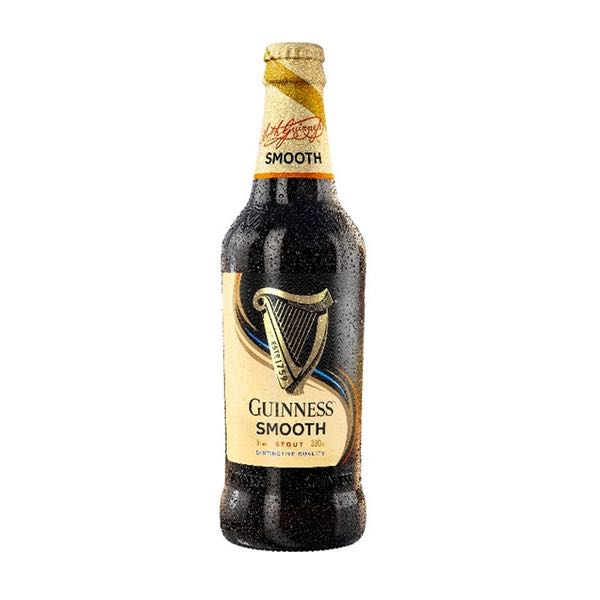glass_bottle: (212, 35, 373, 559)
